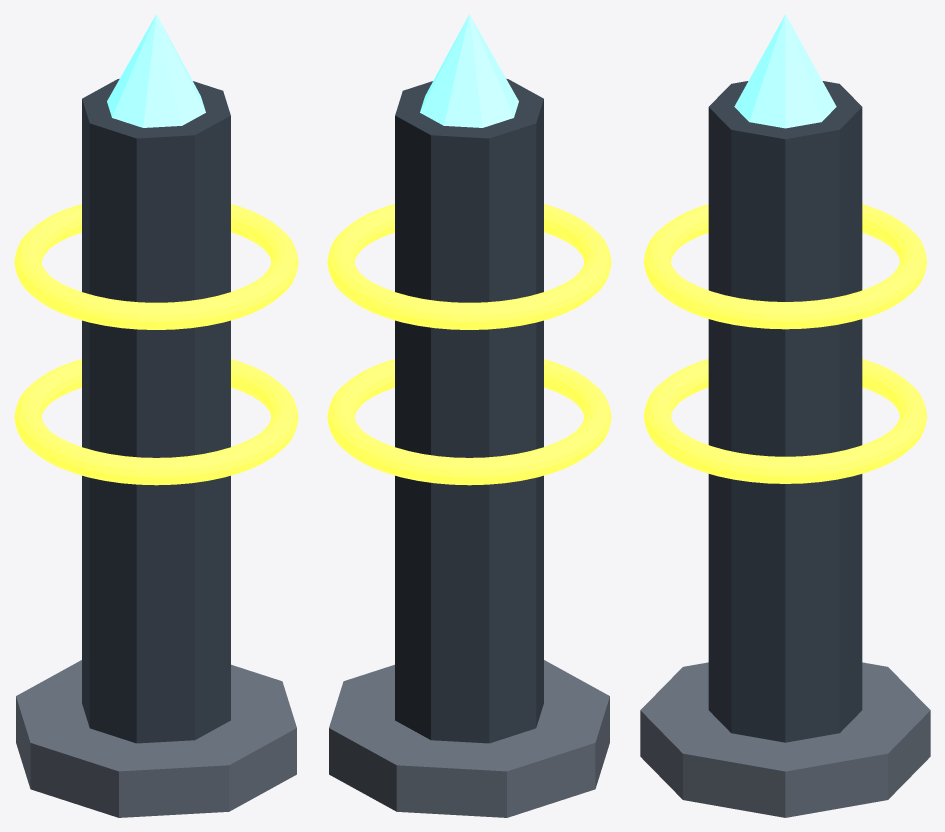
The model's file is hazard_pulse_beacon.glb.
3 views of the same model, side by side, from view 1: azimuth 30°, elevation 25°; view 2: azimuth 150°, elevation 25°; view 3: azimuth 270°, elevation 25° (orthographic).
Visible parts, largest first — view 1: Beacon_Pylon_Column, Beacon_Pylon_Base, Beacon_Ring_Upper_Mesh, Beacon_Ring_Lower_Mesh, Beacon_Apex_Emitter; view 2: Beacon_Pylon_Column, Beacon_Pylon_Base, Beacon_Ring_Upper_Mesh, Beacon_Ring_Lower_Mesh, Beacon_Apex_Emitter; view 3: Beacon_Pylon_Column, Beacon_Pylon_Base, Beacon_Ring_Lower_Mesh, Beacon_Ring_Upper_Mesh, Beacon_Apex_Emitter.
Boxes of the visible parts, left/top/right/bottom form: Beacon_Pylon_Column: left=82, top=78, right=230, bottom=743; Beacon_Pylon_Base: left=16, top=660, right=296, bottom=817; Beacon_Ring_Upper_Mesh: left=14, top=204, right=298, bottom=329; Beacon_Ring_Lower_Mesh: left=14, top=359, right=298, bottom=485; Beacon_Apex_Emitter: left=107, top=14, right=205, bottom=127; Beacon_Pylon_Column: left=395, top=78, right=543, bottom=743; Beacon_Pylon_Base: left=329, top=660, right=609, bottom=817; Beacon_Ring_Upper_Mesh: left=327, top=204, right=611, bottom=329; Beacon_Ring_Lower_Mesh: left=327, top=359, right=611, bottom=485; Beacon_Apex_Emitter: left=420, top=14, right=518, bottom=127; Beacon_Pylon_Column: left=708, top=81, right=862, bottom=742; Beacon_Pylon_Base: left=640, top=662, right=930, bottom=817; Beacon_Ring_Lower_Mesh: left=644, top=359, right=926, bottom=483; Beacon_Ring_Upper_Mesh: left=644, top=204, right=926, bottom=329; Beacon_Apex_Emitter: left=734, top=14, right=836, bottom=128.
Size of the model in its own units: 1.7 by 4.8 by 1.7.
